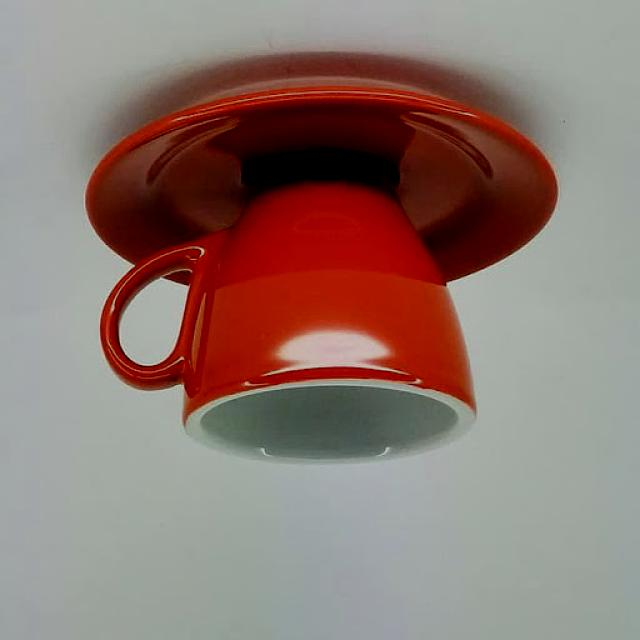Cangkir: (92, 156, 496, 479)
Piring: (57, 70, 578, 296)
